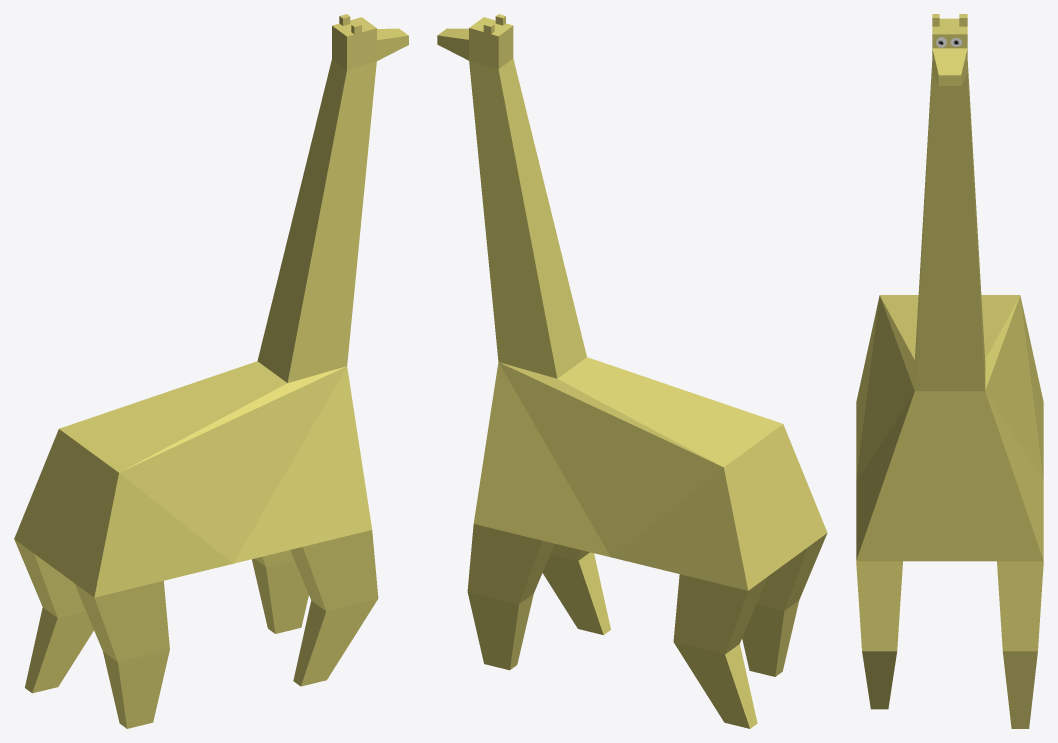
File: giraffe.obj
The picture shows the model from 3 angles, left to right: view 1: azimuth 30°, elevation 25°; view 2: azimuth 150°, elevation 25°; view 3: azimuth 270°, elevation 25°; orthographic projection. The views are drawn at different scales.
Parts seen in each view (by area): view 1: Cube; view 2: Cube; view 3: Cube.
Boxes of the visible parts, x1,y1,x2,y2 form: Cube: [14, 14, 408, 728]; Cube: [437, 14, 827, 728]; Cube: [856, 14, 1043, 728].
Bounding box in the file's own units: 5.04 × 8.54 × 2.
